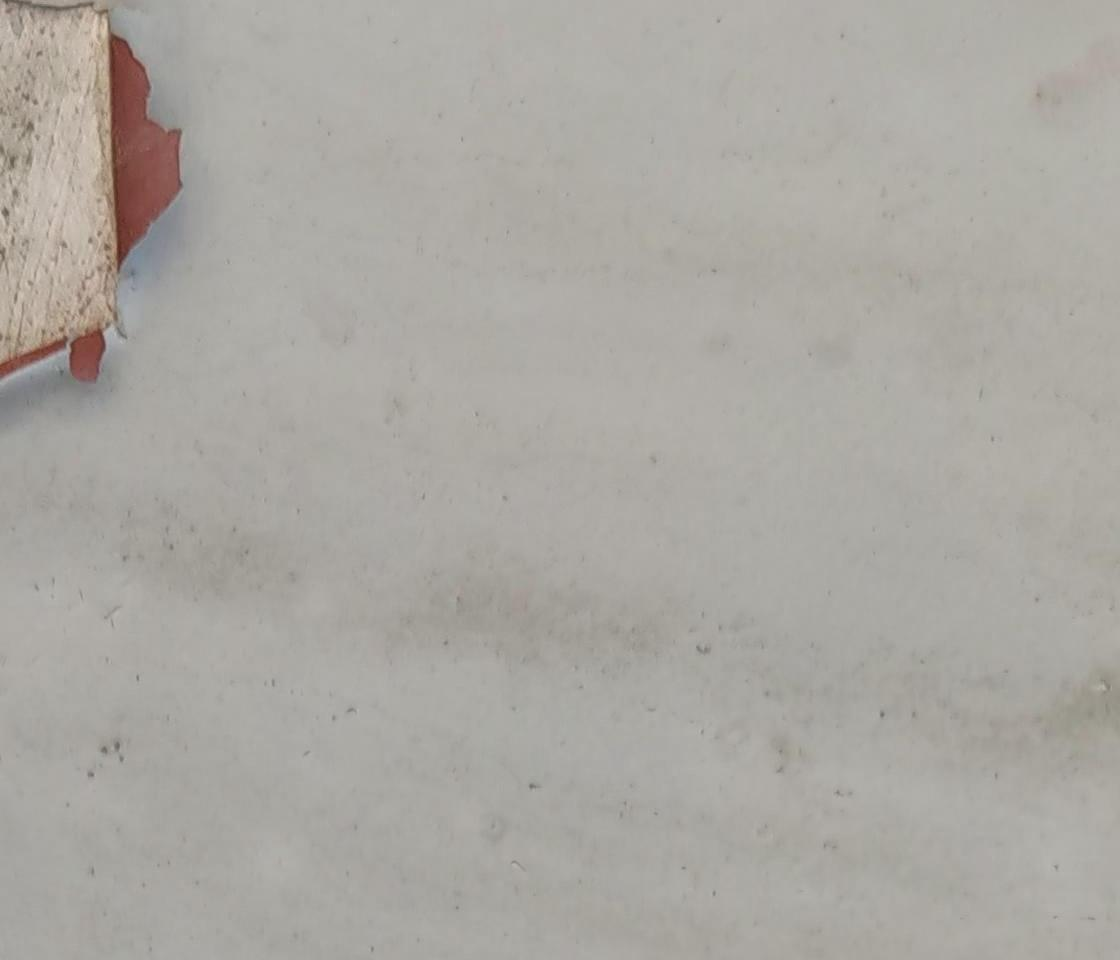paint_peel: (109, 19, 193, 346)
